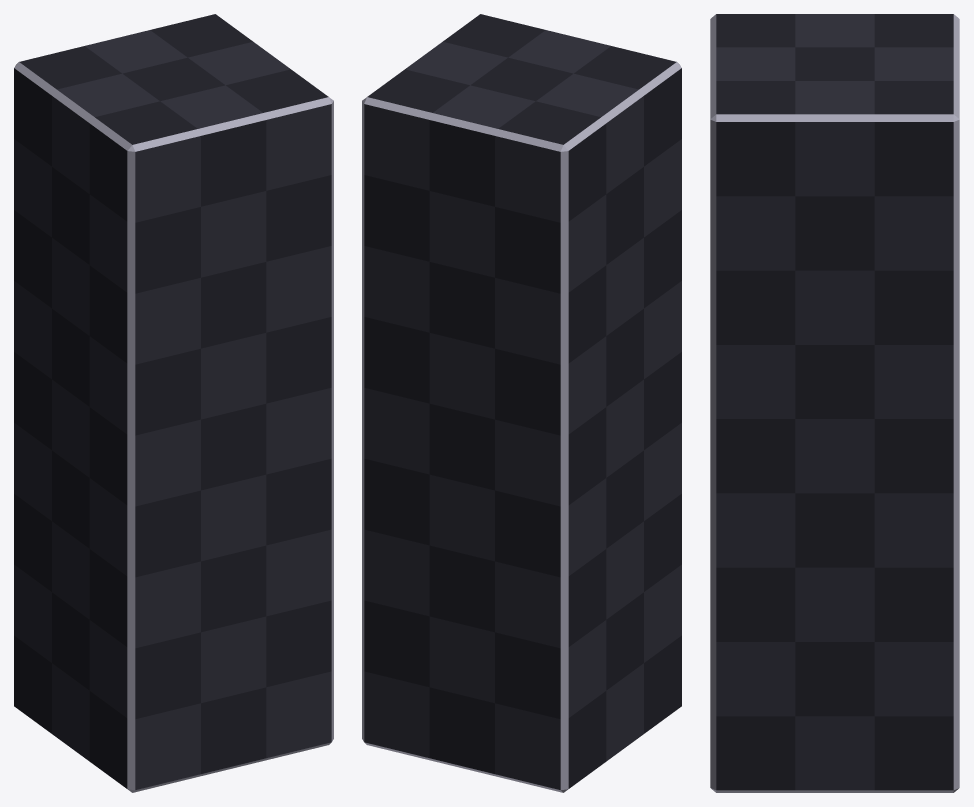
Rendered from PMP-M-Ground-Main-1x1x3-V1.fbx.
The picture shows the model from 3 angles, left to right: view 1: azimuth 30°, elevation 25°; view 2: azimuth 150°, elevation 25°; view 3: azimuth 270°, elevation 25°; orthographic projection. The views are drawn at different scales.
Parts seen in each view (by area): view 1: MONO-Terrain-A-1x1x3; view 2: MONO-Terrain-A-1x1x3; view 3: MONO-Terrain-A-1x1x3.
Boxes of the visible parts, x1,y1,x2,y2 form: MONO-Terrain-A-1x1x3: (14,14,333,792); MONO-Terrain-A-1x1x3: (362,14,681,792); MONO-Terrain-A-1x1x3: (710,14,959,792).
Bounding box in the file's own units: 100 × 300 × 100.
